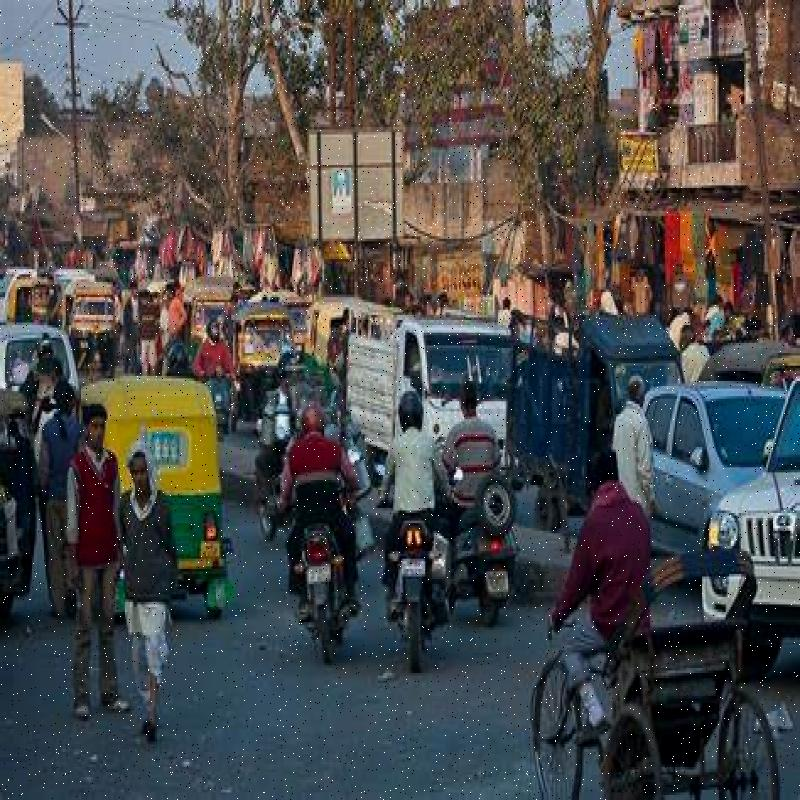auto: (85, 376, 234, 578), (58, 270, 123, 370), (238, 310, 295, 408)
car: (643, 378, 800, 594)
